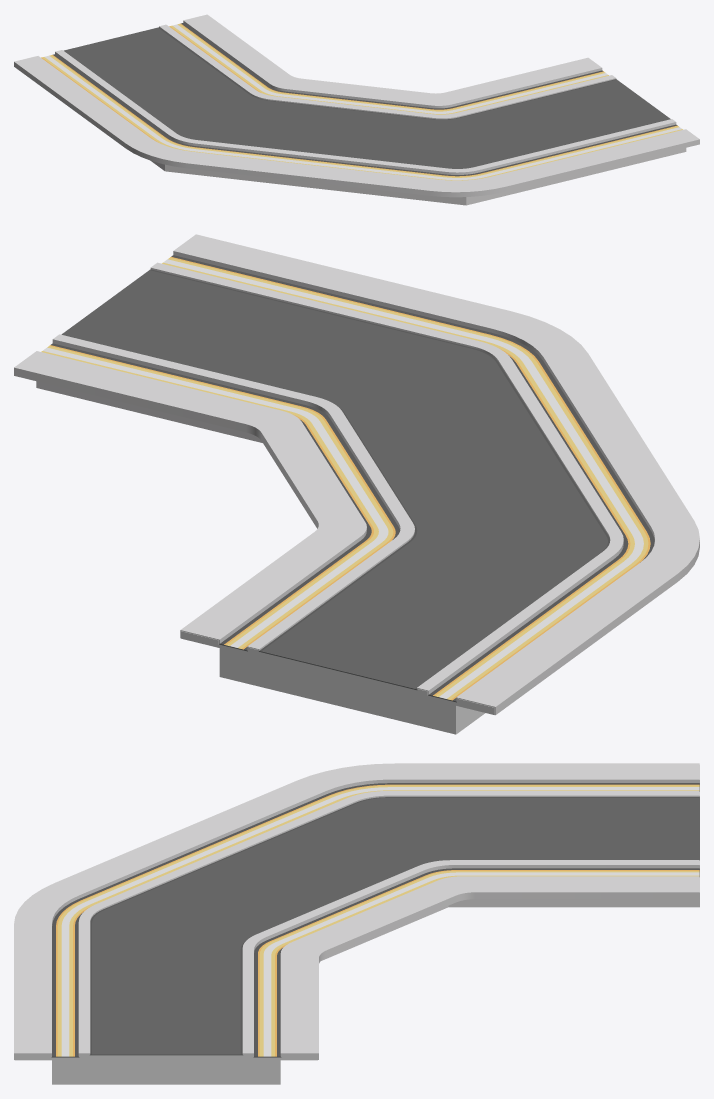
Rendered from MMo_C_001_LT_c_18x18.fbx.
3 views of the same model, one above another, from view 1: azimuth 30°, elevation 25°; view 2: azimuth 150°, elevation 25°; view 3: azimuth 270°, elevation 25° (orthographic). The views are drawn at different scales.
Parts seen in each view (by area): view 1: MMo_C_001_LT_c_18x18; view 2: MMo_C_001_LT_c_18x18; view 3: MMo_C_001_LT_c_18x18.
Boxes of the visible parts, x1,y1,x2,y2 form: MMo_C_001_LT_c_18x18: (14, 14, 699, 205); MMo_C_001_LT_c_18x18: (14, 234, 699, 734); MMo_C_001_LT_c_18x18: (14, 763, 699, 1084).
Size of the model in its own units: 18 by 0.9 by 18.
